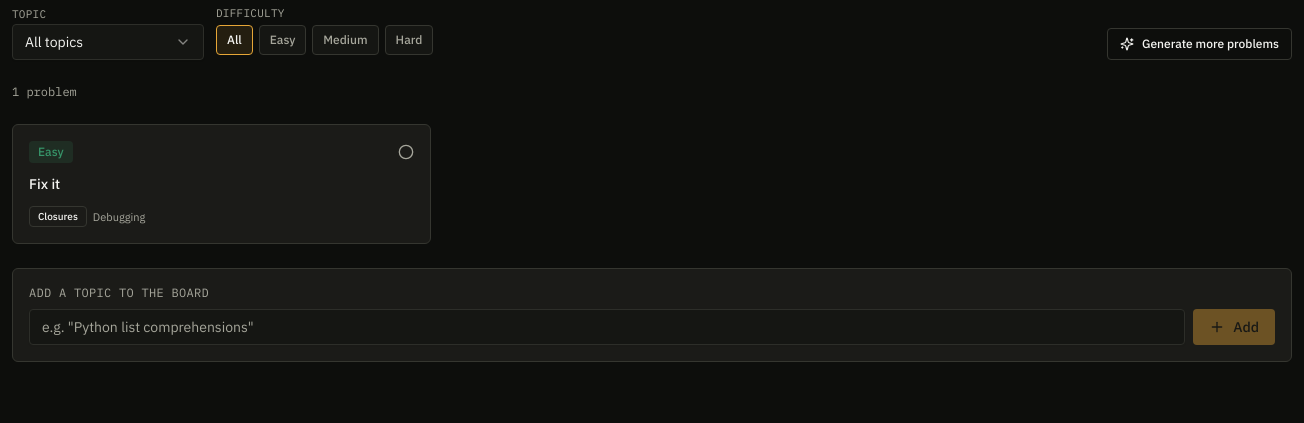
Test: PracticeBoard › reports why generating problems failed, using the specific cause when there is one
What coordinates should you click on to do the following:
click the button "Generate more problems"
I would click on:
 (1199, 44)
Its box is [1107, 28, 1292, 60].
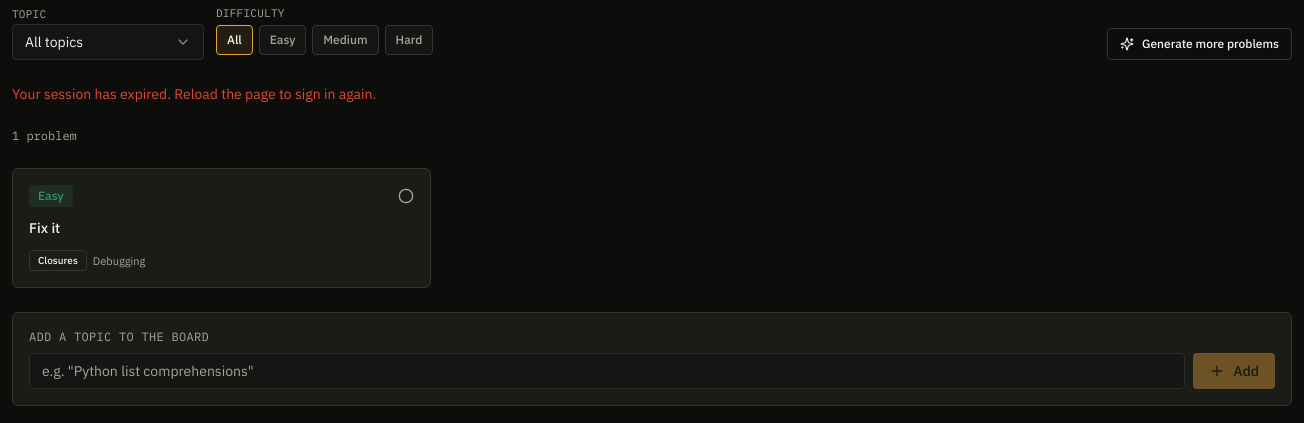
Expected: the message reads "Your session has expired. Reload the page to sign in again.", [12, 85, 376, 103]
